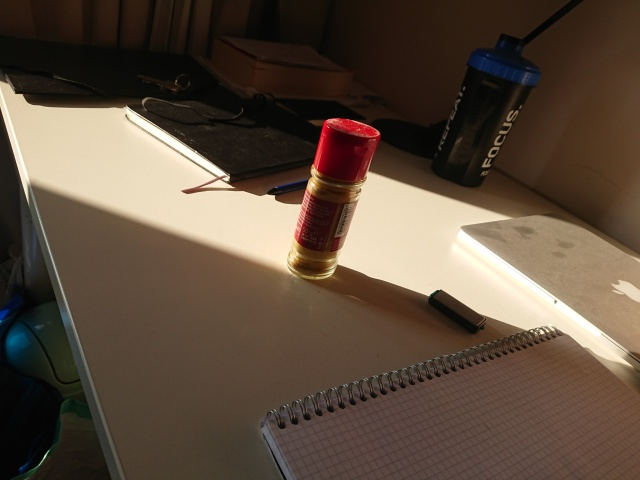Kotanyi Curry Spices Mix 70g: (285, 110, 383, 283)
